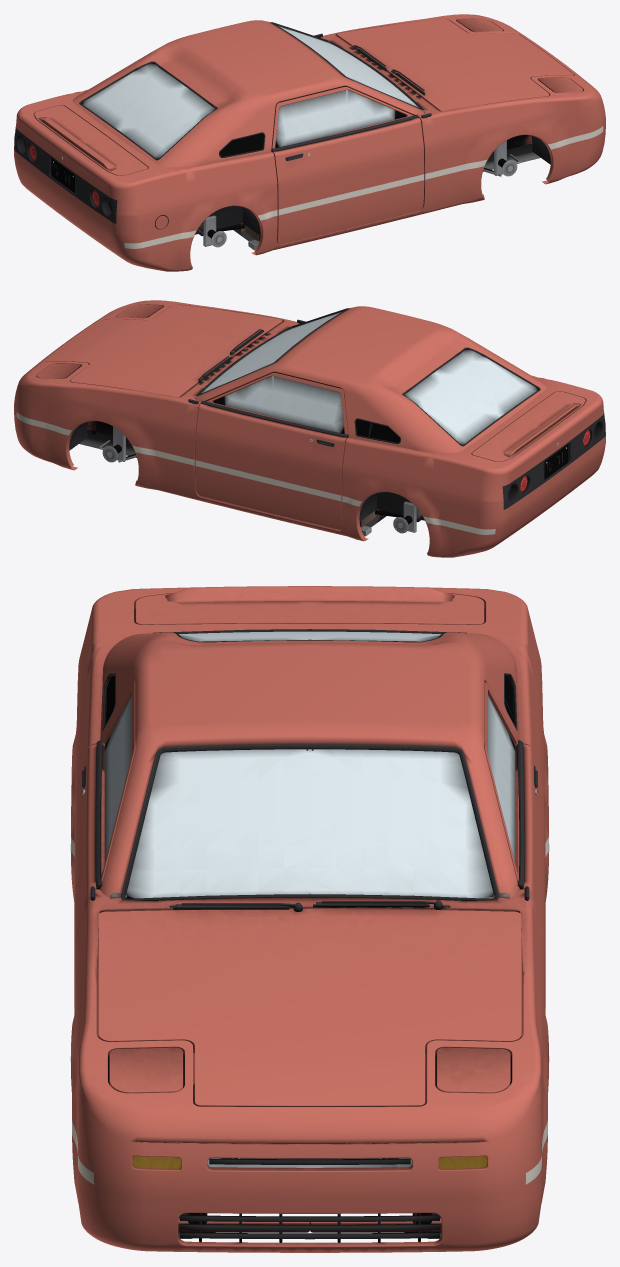
File: fox.glb
3 renders of one model, top to bottom at view 1: azimuth 30°, elevation 25°; view 2: azimuth 150°, elevation 25°; view 3: azimuth 270°, elevation 25°, orthographic. The views are drawn at different scales.
Parts seen in each view (by area): view 1: BODY, P_door_FR, P_hood, GLASS, PG_door_FR, P_trunk, UNDER, KNUCKLE_hub_RR, KNUCKLE_hub_FR, POPUP_R, POPUP_L; view 2: BODY, P_door_FL, P_hood, GLASS, PG_door_FL, P_trunk, UNDER, KNUCKLE_hub_RL, KNUCKLE_hub_FL, POPUP_L, POPUP_R; view 3: BODY, P_hood, GLASS, P_trunk, P_door_FL, P_door_FR, POPUP_L, POPUP_R, PG_door_FL, PG_door_FR, UNDER, WIPER_L (+1 smaller).
Boxes of the visible parts, box(x1,y1,x2,y2) form: BODY: box(14, 14, 605, 271); P_door_FR: box(271, 86, 424, 243); P_hood: box(337, 18, 573, 111); GLASS: box(81, 26, 418, 159); PG_door_FR: box(275, 87, 406, 147); P_trunk: box(34, 105, 147, 175); UNDER: box(195, 135, 550, 250); KNUCKLE_hub_RR: box(203, 215, 226, 247); KNUCKLE_hub_FR: box(494, 140, 517, 176); POPUP_R: box(538, 77, 582, 92); POPUP_L: box(456, 18, 502, 32); BODY: box(14, 300, 605, 557); P_door_FL: box(195, 372, 348, 529); P_hood: box(46, 304, 282, 397); GLASS: box(201, 312, 538, 445); PG_door_FL: box(213, 373, 344, 433); P_trunk: box(472, 391, 585, 461); UNDER: box(69, 421, 424, 536); KNUCKLE_hub_RL: box(393, 501, 416, 533); KNUCKLE_hub_FL: box(102, 426, 125, 462); POPUP_L: box(37, 363, 81, 378); POPUP_R: box(117, 304, 163, 318); BODY: box(70, 586, 549, 1252); P_hood: box(98, 909, 521, 1106); GLASS: box(105, 631, 514, 898); P_trunk: box(135, 586, 484, 624); P_door_FL: box(484, 682, 545, 982); P_door_FR: box(74, 682, 135, 982); POPUP_L: box(436, 1047, 510, 1093); POPUP_R: box(109, 1047, 183, 1093); PG_door_FL: box(488, 695, 515, 862); PG_door_FR: box(104, 695, 131, 862); UNDER: box(178, 1158, 441, 1238); WIPER_L: box(313, 900, 442, 909).
Bounding box in the file's own units: 3.97 × 1.11 × 1.64.
